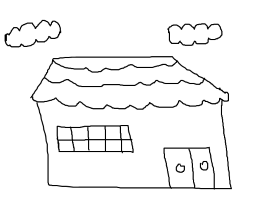closed_window: (56, 125, 134, 154)
clouds: (4, 18, 61, 48), (166, 22, 223, 47)
door: (161, 140, 219, 192)
roof: (26, 53, 231, 112)
wall: (35, 100, 233, 195)
